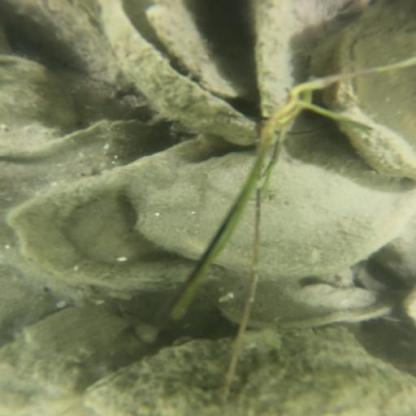3: (102, 0, 297, 146)
Oyster- Indeterminate: (296, 279, 373, 308)
Oyster-Closed: (129, 148, 416, 279), (232, 330, 415, 416), (0, 1, 132, 92), (86, 339, 232, 416), (147, 2, 248, 102), (4, 56, 85, 150)
